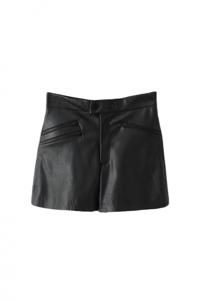C_shorts: (22, 87, 181, 219)
